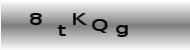8: (28, 11, 41, 26)
K: (71, 12, 87, 26)
Q: (90, 18, 108, 34)
g: (114, 23, 128, 37)
t: (56, 23, 67, 36)
